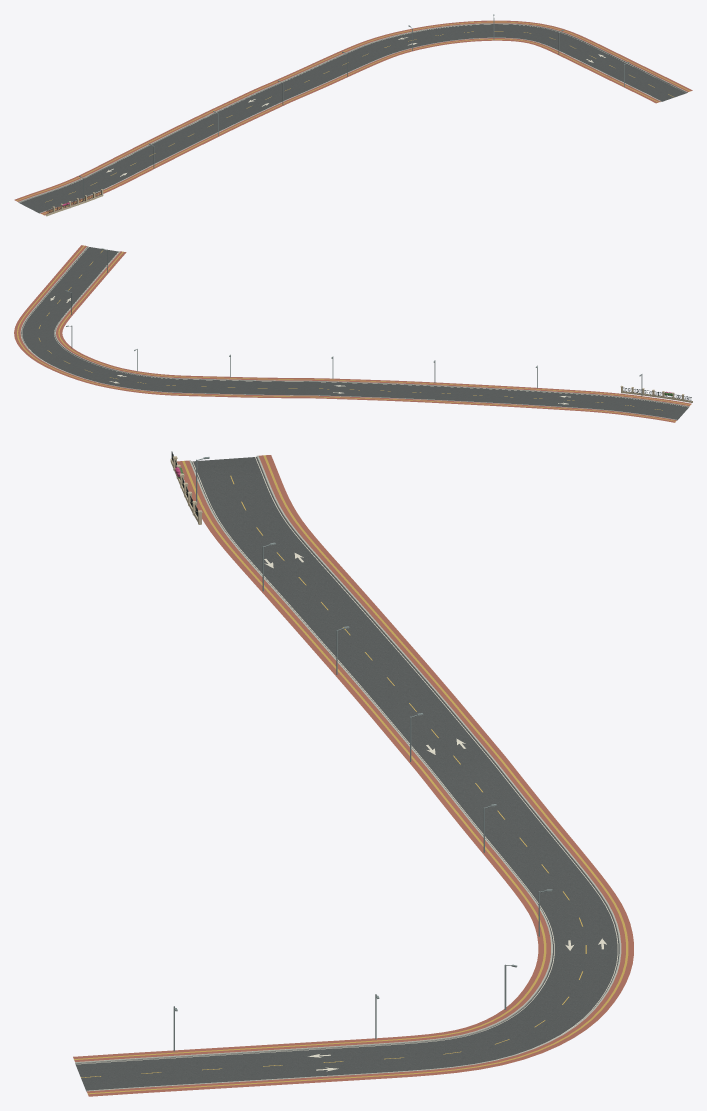
File: infra-road-06.glb
The picture shows the model from 3 angles, top to bottom: view 1: azimuth 30°, elevation 25°; view 2: azimuth 150°, elevation 25°; view 3: azimuth 270°, elevation 25°; orthographic projection. The views are drawn at different scales.
Visible parts, largest first — view 1: infra-road-06; view 2: infra-road-06; view 3: infra-road-06.
Part boxes in pixels (box(x1,y1,x2,y2)): infra-road-06: box(14, 14, 692, 216); infra-road-06: box(14, 245, 692, 422); infra-road-06: box(73, 451, 633, 1096).
Size of the model in its own units: 214 by 12.39 by 82.
12 materials, 1 textured.
